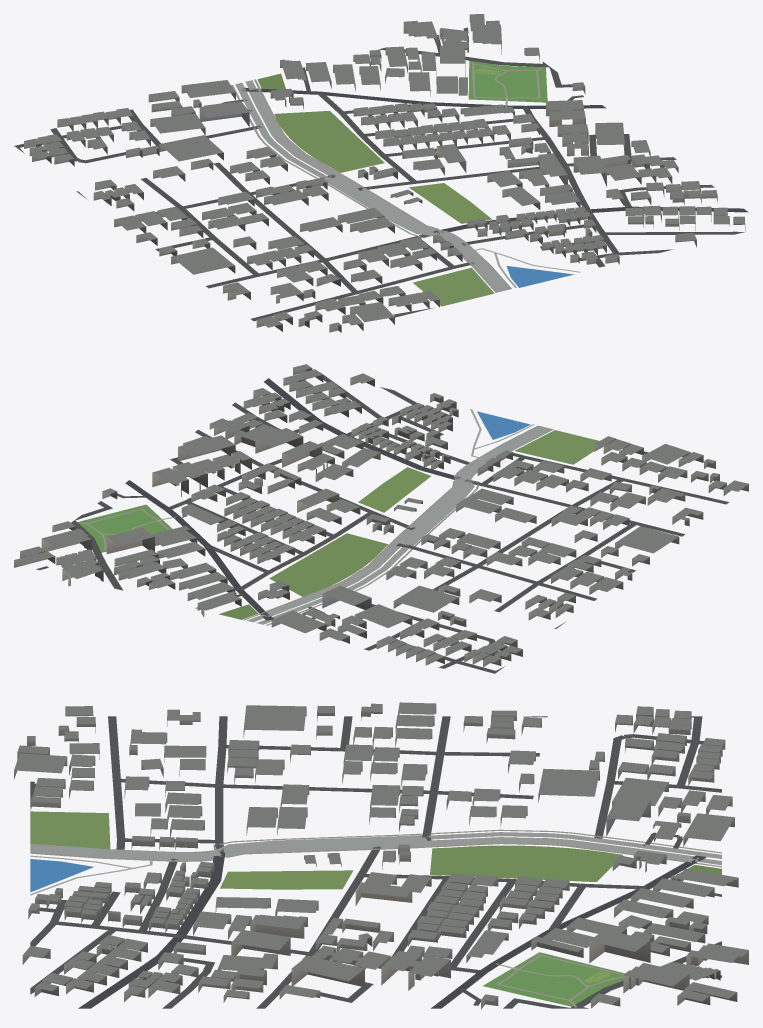
3 views of the same model, one above another, from view 1: azimuth 30°, elevation 25°; view 2: azimuth 150°, elevation 25°; view 3: azimuth 270°, elevation 25° (orthographic). The views are drawn at different scales.
Parts seen in each view (by area): view 1: building, ground, water; view 2: building, ground, water; view 3: building, ground, water.
Boxes of the visible parts, x1,y1,x2,y2 form: building: (24,14,745,332); ground: (14,27,748,321); water: (506,266,574,287); building: (14,364,748,667); ground: (36,372,729,673); water: (477,411,530,439); building: (14,702,748,1009); ground: (30,716,721,1008); water: (30,859,93,892).
Bounding box in the file's own units: 515 × 18 × 531.
